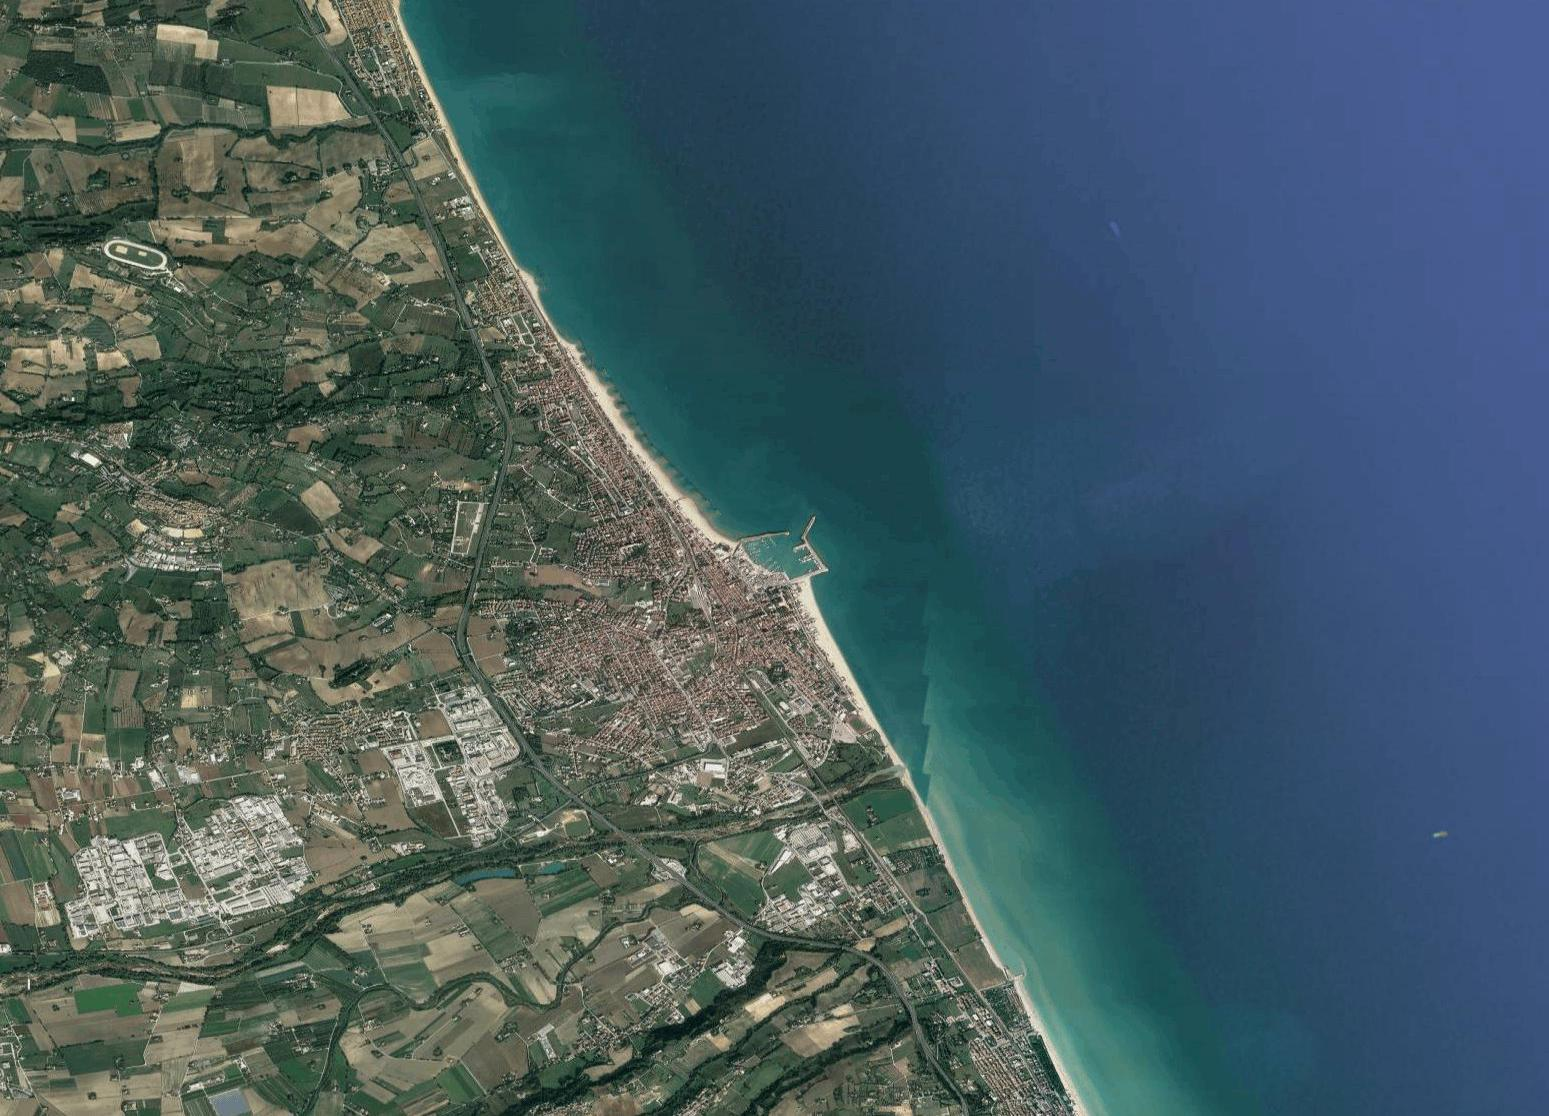harbor: (728, 501, 829, 589)
industrial: (66, 788, 298, 940), (439, 700, 502, 823)
motorway: (894, 979, 965, 1115), (629, 841, 710, 906), (553, 776, 627, 841), (805, 939, 900, 981), (710, 903, 803, 945), (508, 716, 554, 780), (296, 1, 342, 67), (344, 69, 390, 135), (388, 133, 427, 210), (426, 210, 464, 287), (455, 287, 489, 358), (485, 358, 514, 431), (467, 658, 503, 716), (471, 506, 499, 578), (487, 431, 514, 505), (455, 577, 476, 661)
train_station: (687, 575, 713, 615)
